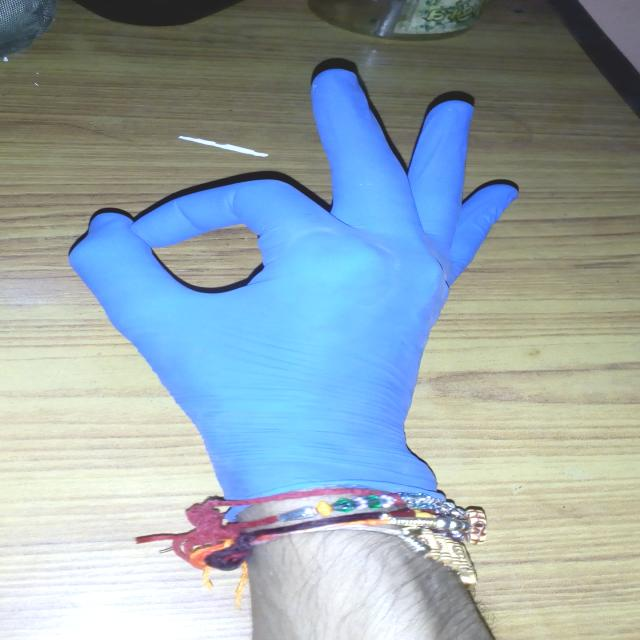glove: (64, 58, 526, 533)
